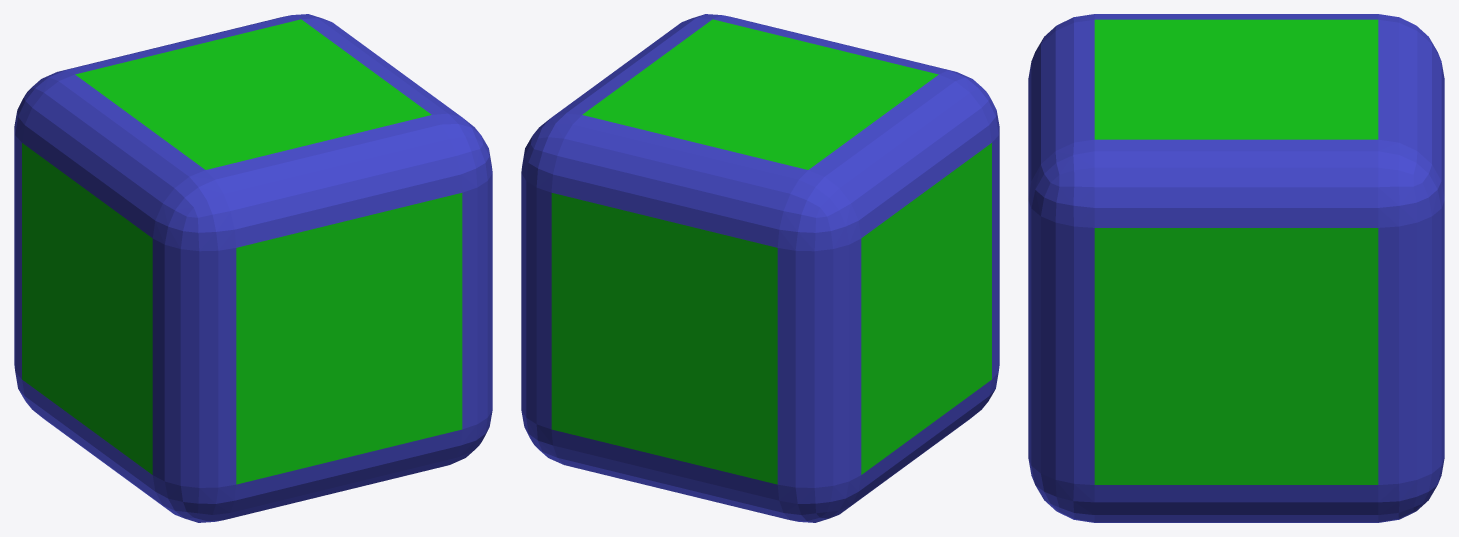
The picture shows the model from 3 angles, left to right: view 1: azimuth 30°, elevation 25°; view 2: azimuth 150°, elevation 25°; view 3: azimuth 270°, elevation 25°; orthographic projection. The views are drawn at different scales.
Visible parts, largest first — view 1: ___; view 2: ___; view 3: ___.
Part boxes in pixels (left/top/right/bottom): ___: left=14, top=14, right=492, bottom=522; ___: left=521, top=14, right=999, bottom=522; ___: left=1028, top=14, right=1444, bottom=522.
Bounding box in the file's own units: 2 × 2 × 2.
